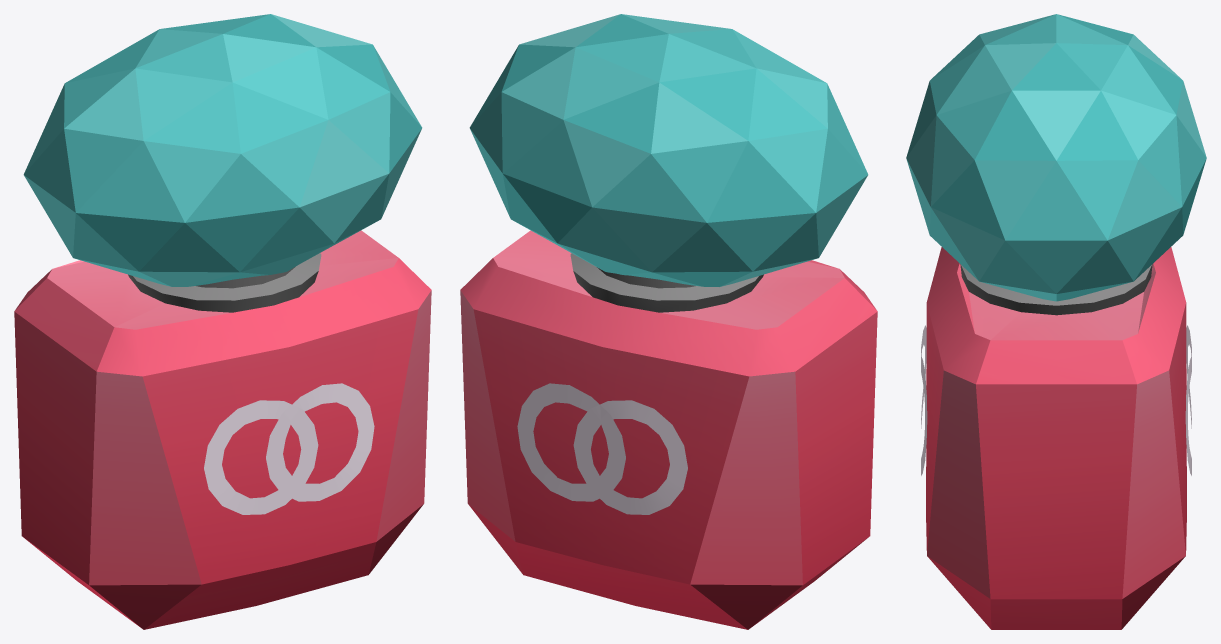
Rendered from Perfume.fbx.
3 views of the same model, side by side, from view 1: azimuth 30°, elevation 25°; view 2: azimuth 150°, elevation 25°; view 3: azimuth 270°, elevation 25° (orthographic). The views are drawn at different scales.
Parts seen in each view (by area): view 1: Perfume; view 2: Perfume; view 3: Perfume.
Boxes of the visible parts, box(x1,y1,x2,y2) form: Perfume: box(14, 14, 431, 629); Perfume: box(460, 14, 877, 629); Perfume: box(906, 14, 1206, 629).
Bounding box in the file's own units: 0.4107 × 0.6199 × 0.3149.
